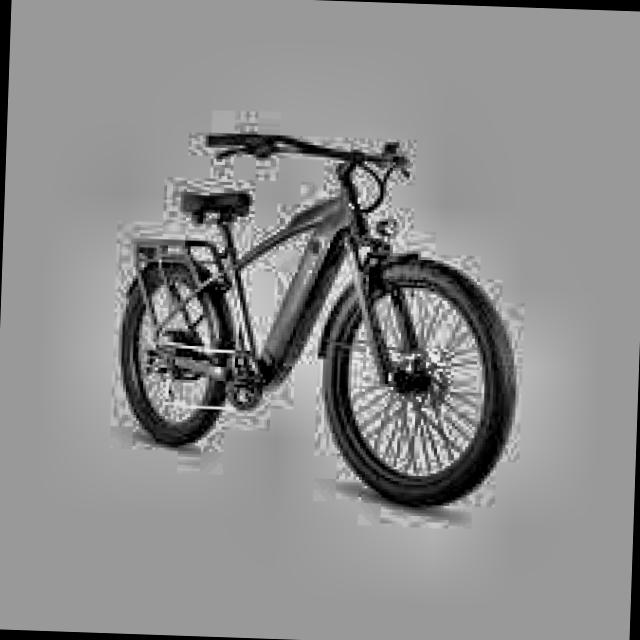bicycle: (106, 114, 532, 522)
